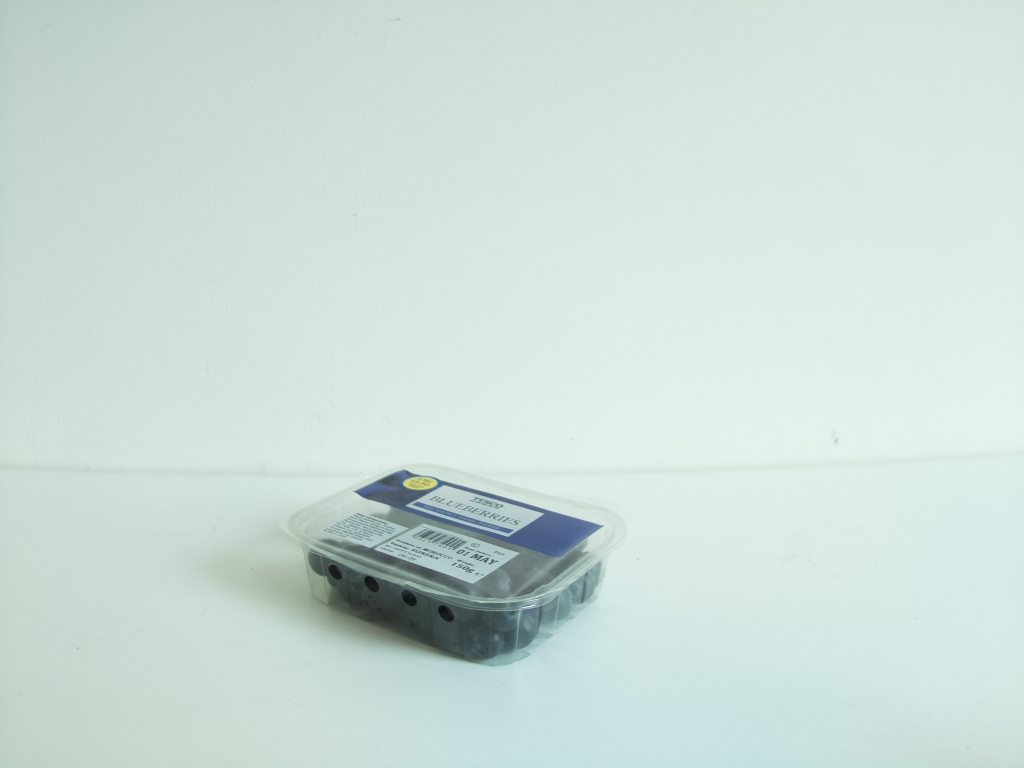soft-fruit: (296, 461, 615, 654)
